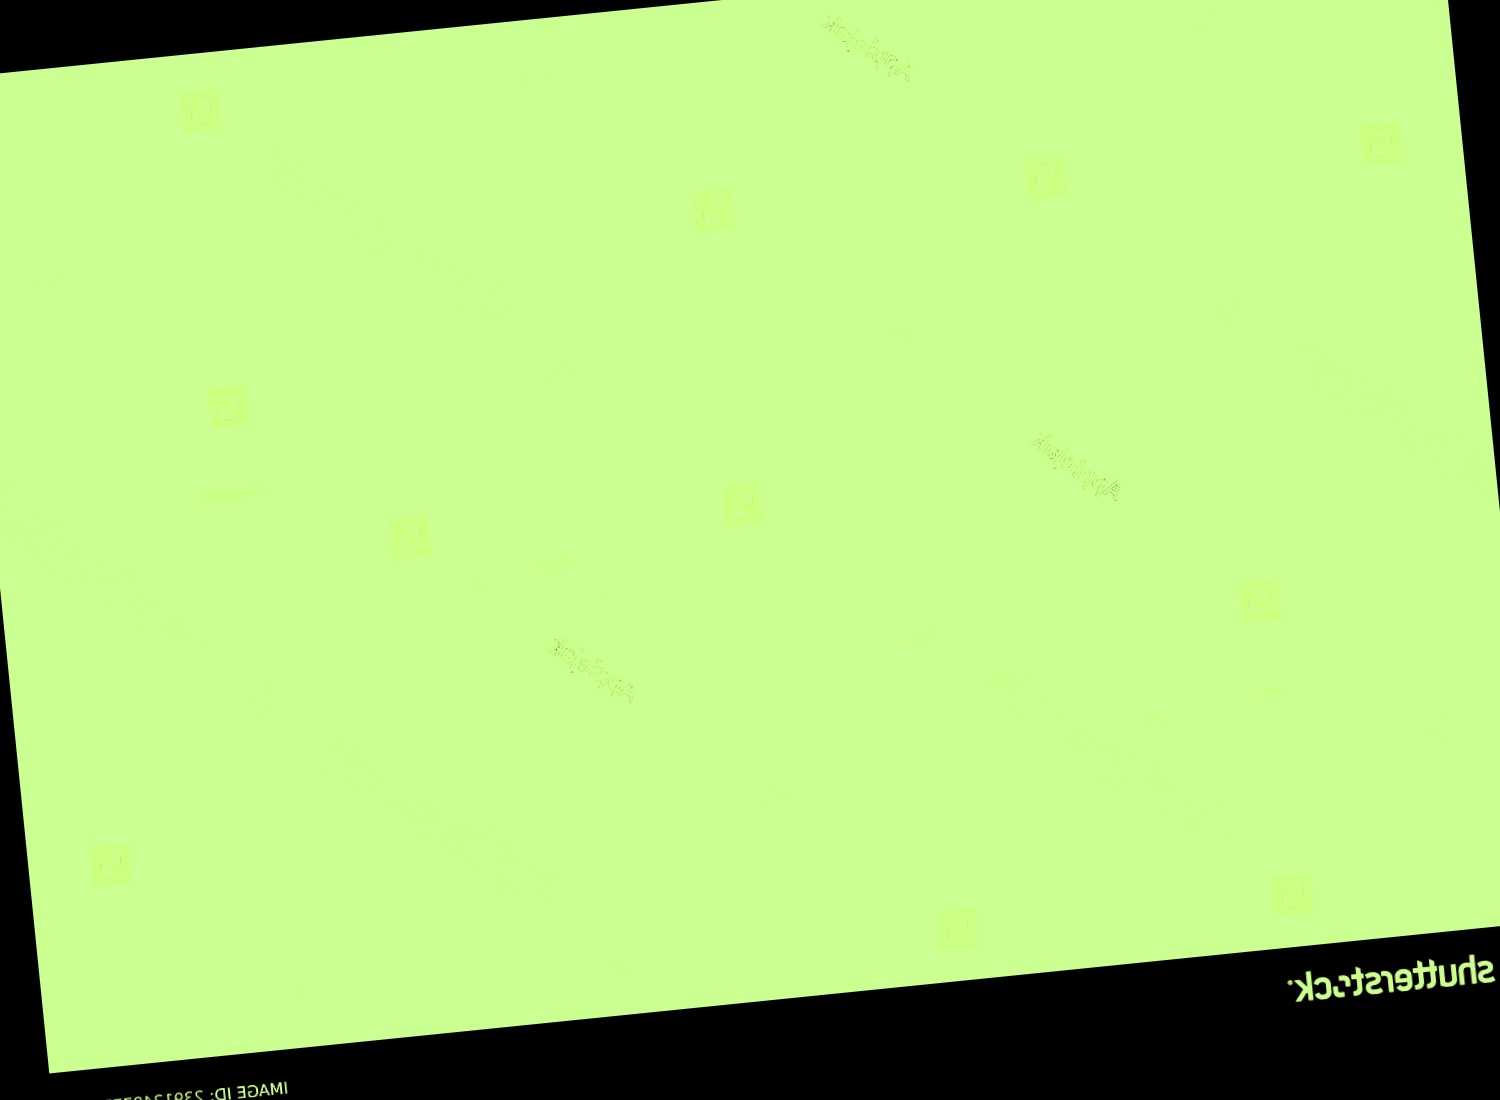lapin: (1105, 627, 1466, 787), (418, 503, 705, 677), (735, 576, 1042, 734), (100, 433, 358, 589)
